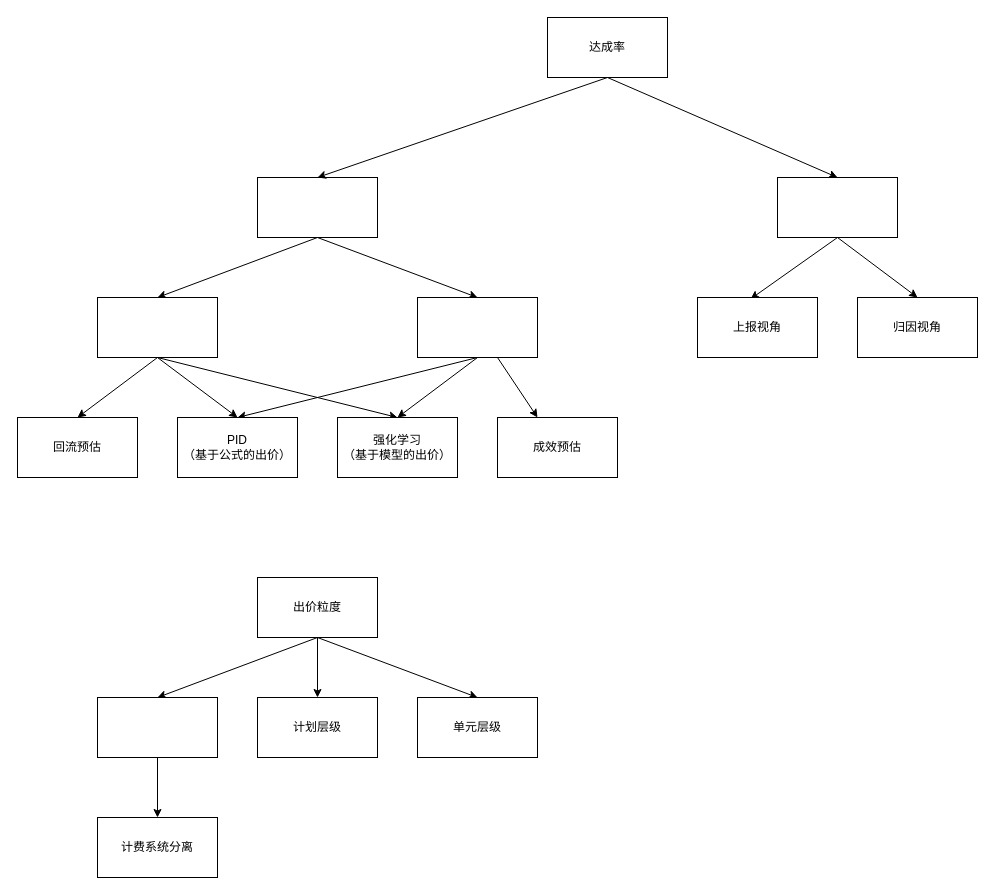
Image size: 995x895. Some labels were removed from this diagram. The centre of each missing label's shape, as x and y in pixels:
成本达成率: point (157, 327)
账户层级: point (157, 727)
达成率种类: point (317, 207)
达成率视角: point (837, 207)
预算达成率: point (477, 327)
